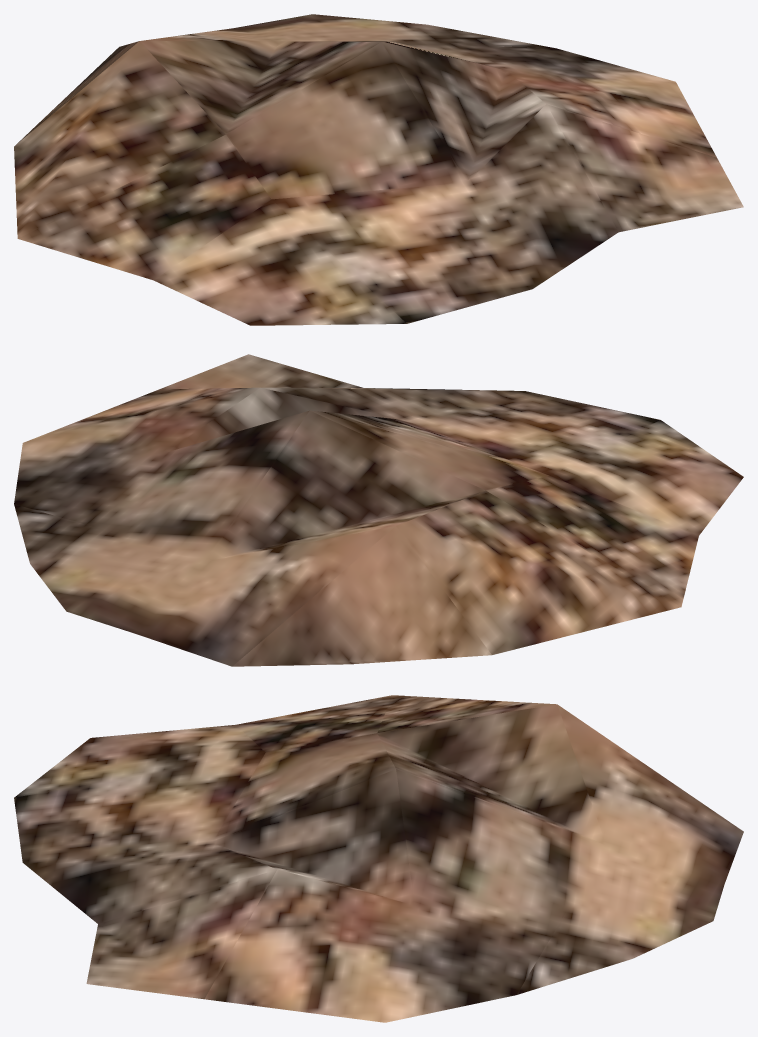
The model's file is psx_industrial_pack_pile_debris.glb.
The picture shows the model from 3 angles, top to bottom: view 1: azimuth 30°, elevation 25°; view 2: azimuth 150°, elevation 25°; view 3: azimuth 270°, elevation 25°; orthographic projection. The views are drawn at different scales.
Parts seen in each view (by area): view 1: PileDebris; view 2: PileDebris; view 3: PileDebris.
Part boxes in pixels (x1,y1,x2,y2): PileDebris: (14,14,743,325); PileDebris: (14,354,743,666); PileDebris: (14,695,743,1022).
Bounding box in the file's own units: 1.96 × 0.314 × 1.84.
1 material, 1 textured.
